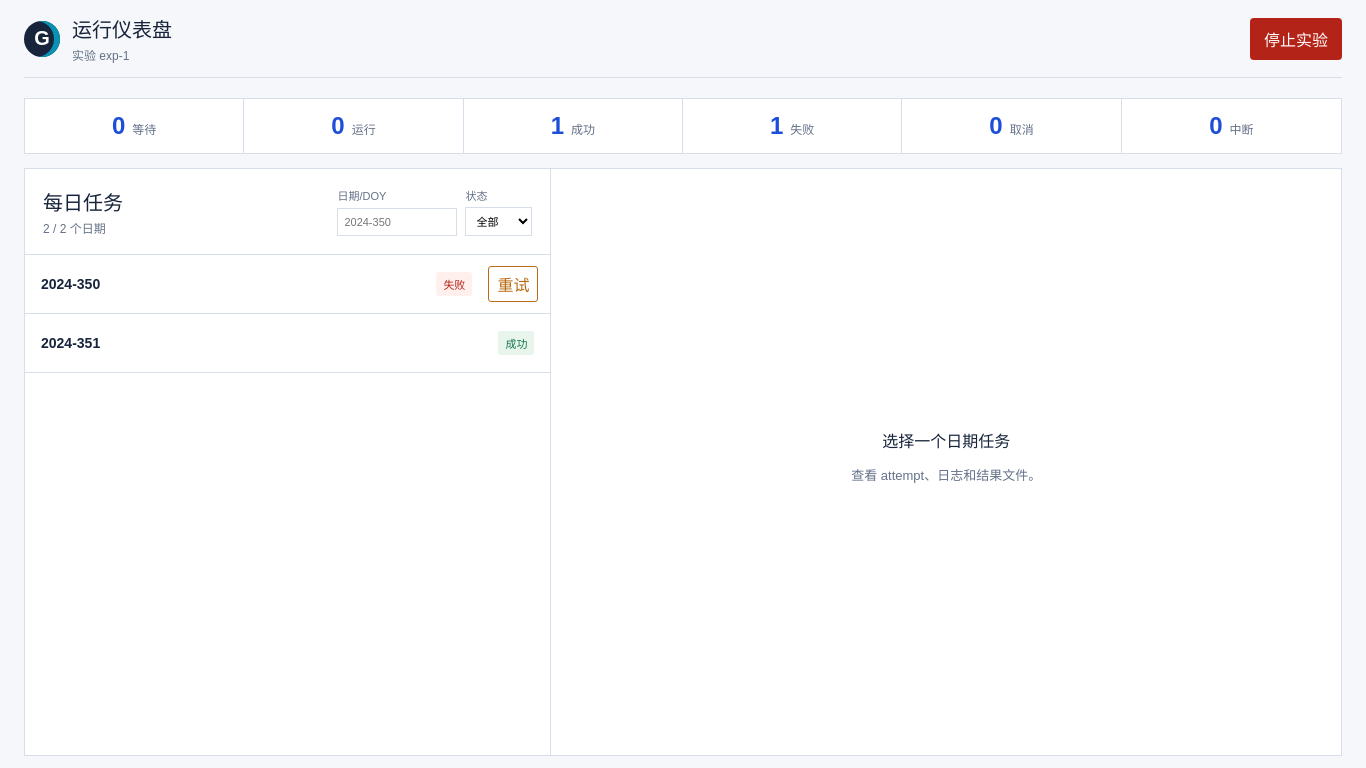
Scenario: RunDashboard › shows missing-output details and switches attempt logs
Click the button with aria-label "查看 2024-350" at (57, 284), box [25,255,488,313]
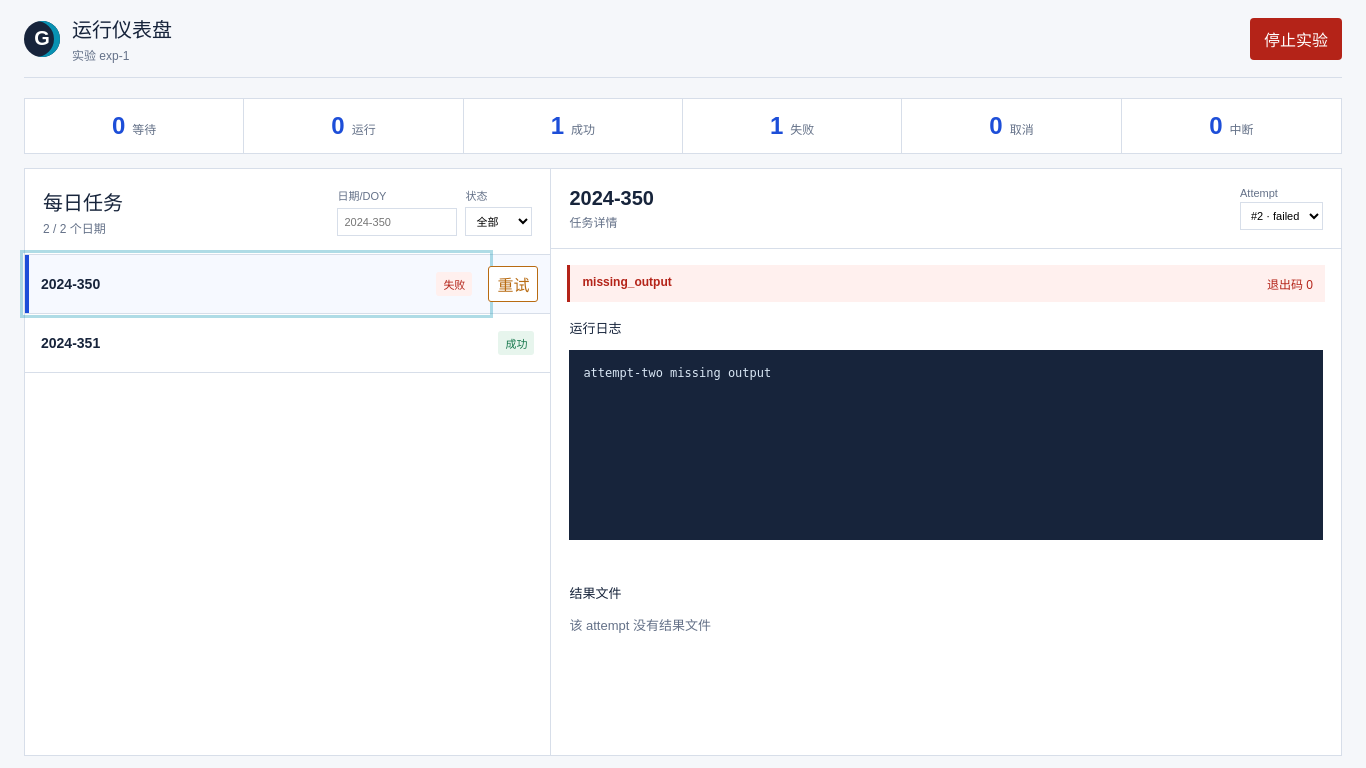
Check: the text "missing_output" is shown, box [582,275,672,292]
Check: the text "attempt-two missing output" is shown, box [569,350,1323,540]
Select "#1 · failed" in the dropdown labelled "Attempt" at (1282, 216), box [1240,202,1323,230]
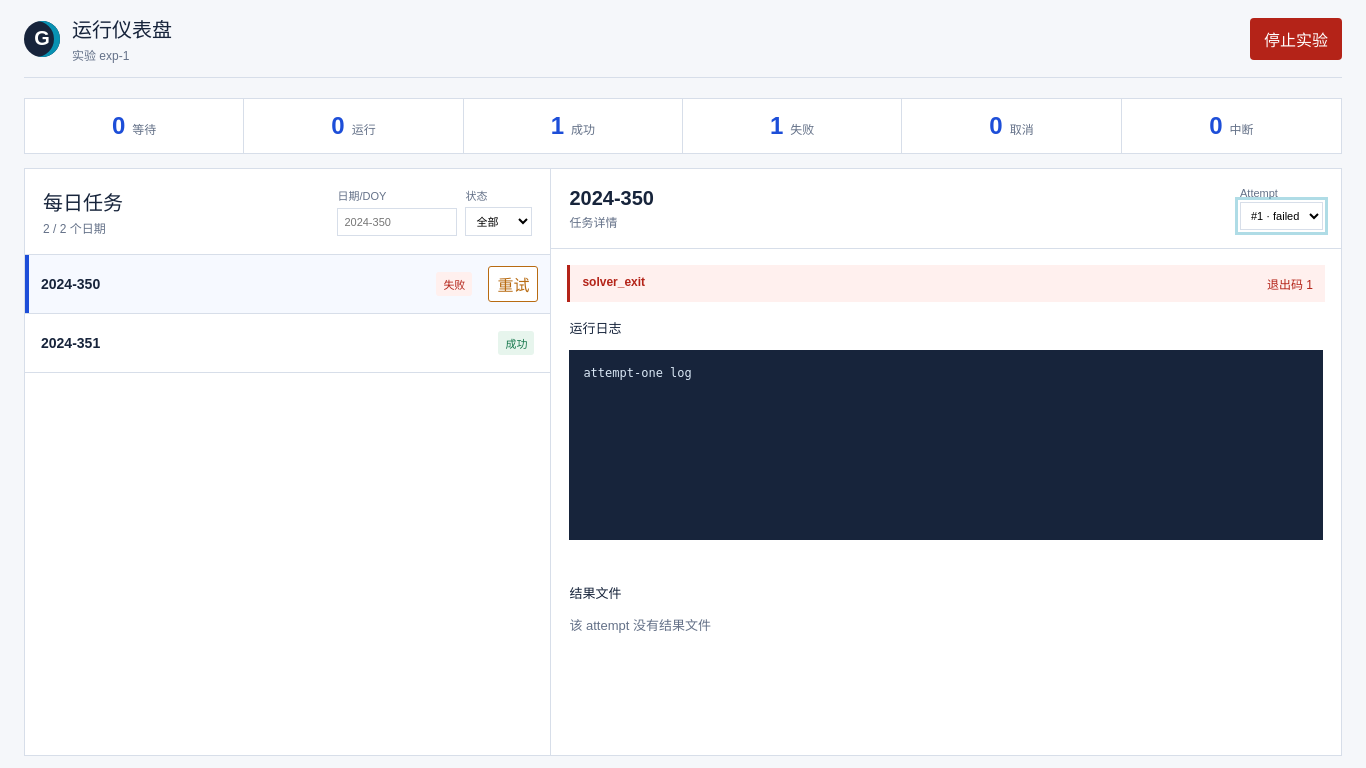
Check: the text "attempt-one log" is shown, box [569,350,1323,540]
